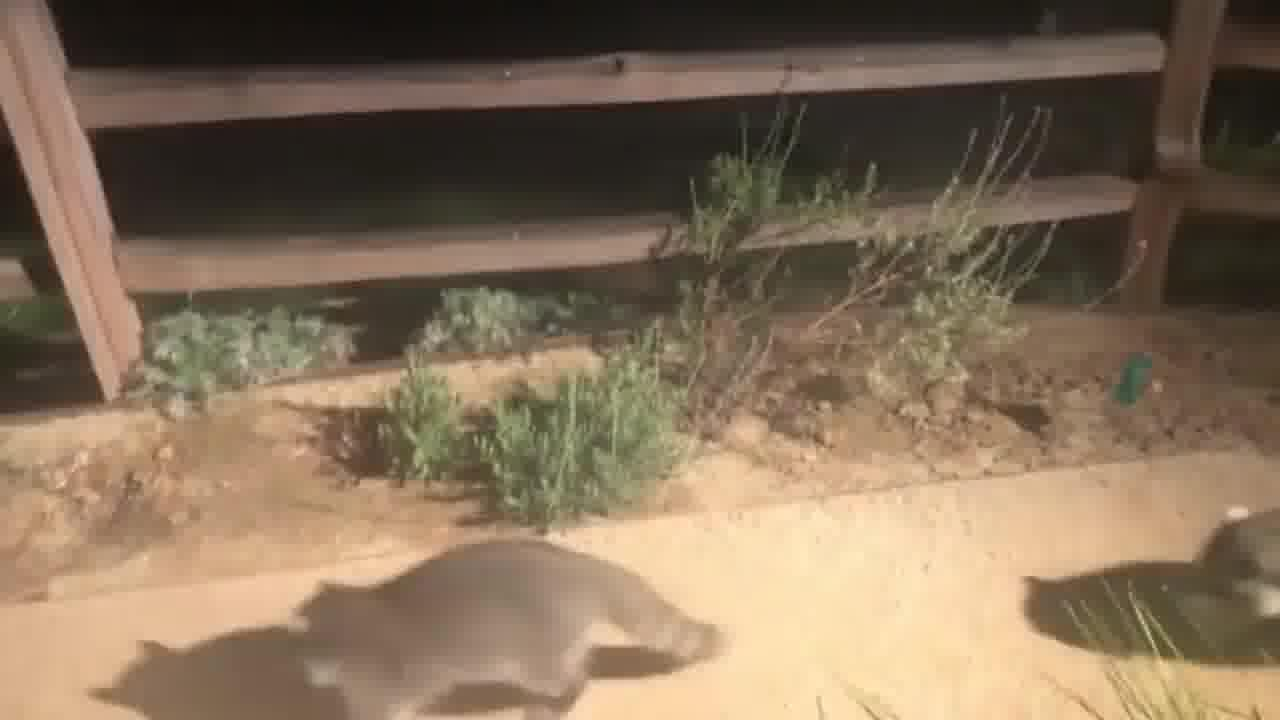raccoon: (276, 523, 738, 720), (1169, 494, 1280, 663)
